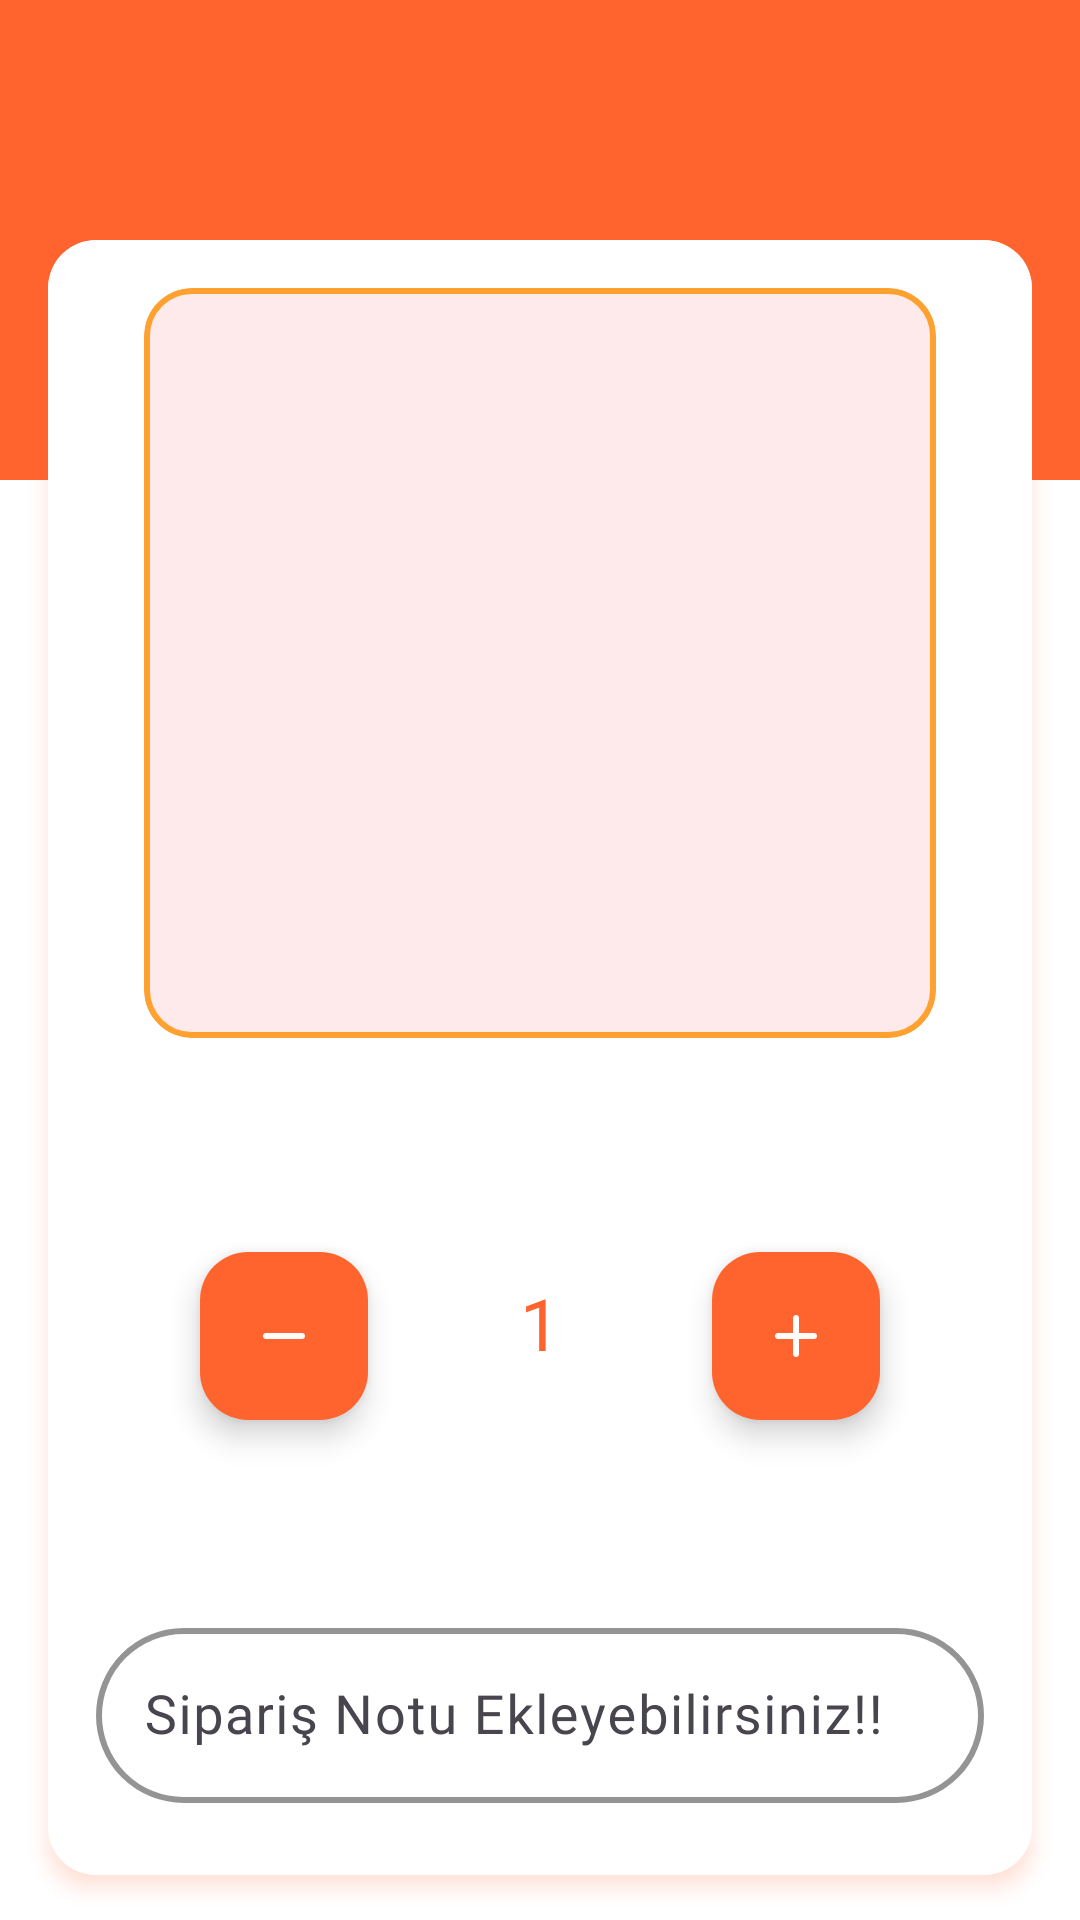

Screen size 1080px×1920px. Icon name, then its center in pixels as (x,y):
add ozel: (796,1336)
azalt ozel: (284,1336)
